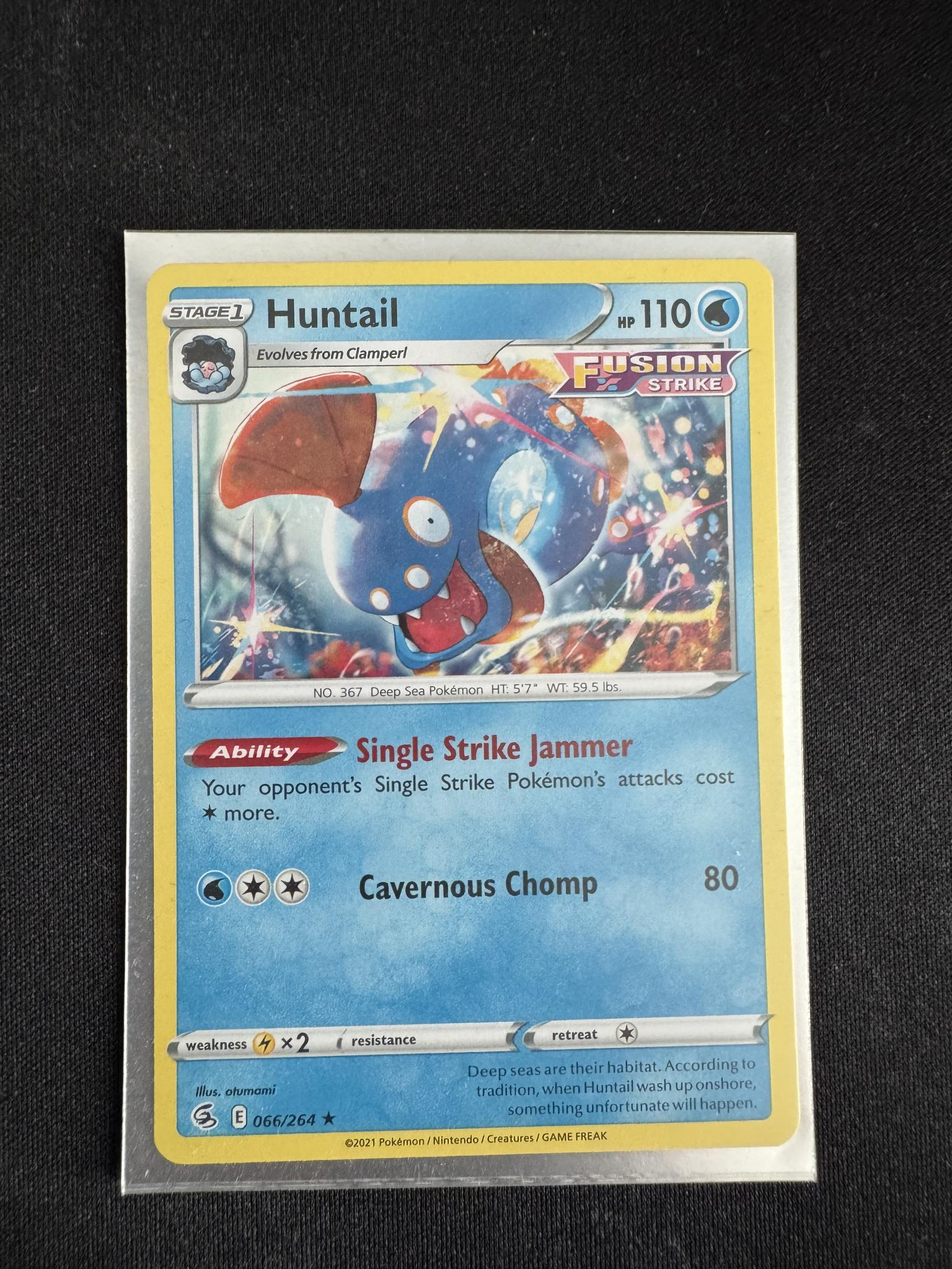card-2UtV: (146, 259, 800, 1165)
